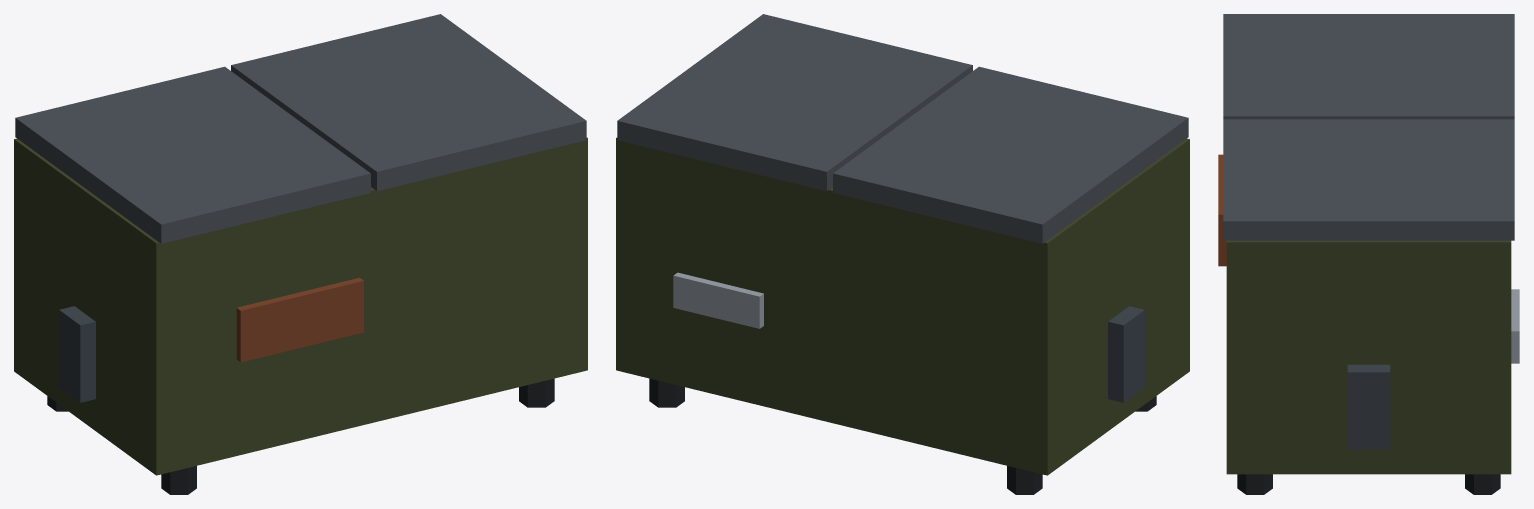
The model's file is prop_dumpster.fbx.
3 views of the same model, side by side, from view 1: azimuth 30°, elevation 25°; view 2: azimuth 150°, elevation 25°; view 3: azimuth 270°, elevation 25° (orthographic).
Visible parts, largest first — view 1: prop_dumpster; view 2: prop_dumpster; view 3: prop_dumpster.
Boxes of the visible parts, x1,y1,x2,y2 form: prop_dumpster: (14,14,587,494); prop_dumpster: (616,14,1189,494); prop_dumpster: (1218,14,1519,494).
Size of the model in its own units: 750 by 440 by 424.
